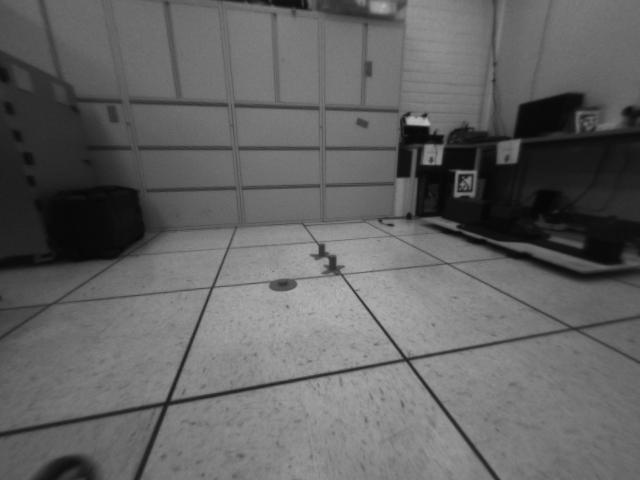X: (321, 254, 346, 276), (308, 242, 330, 261)
